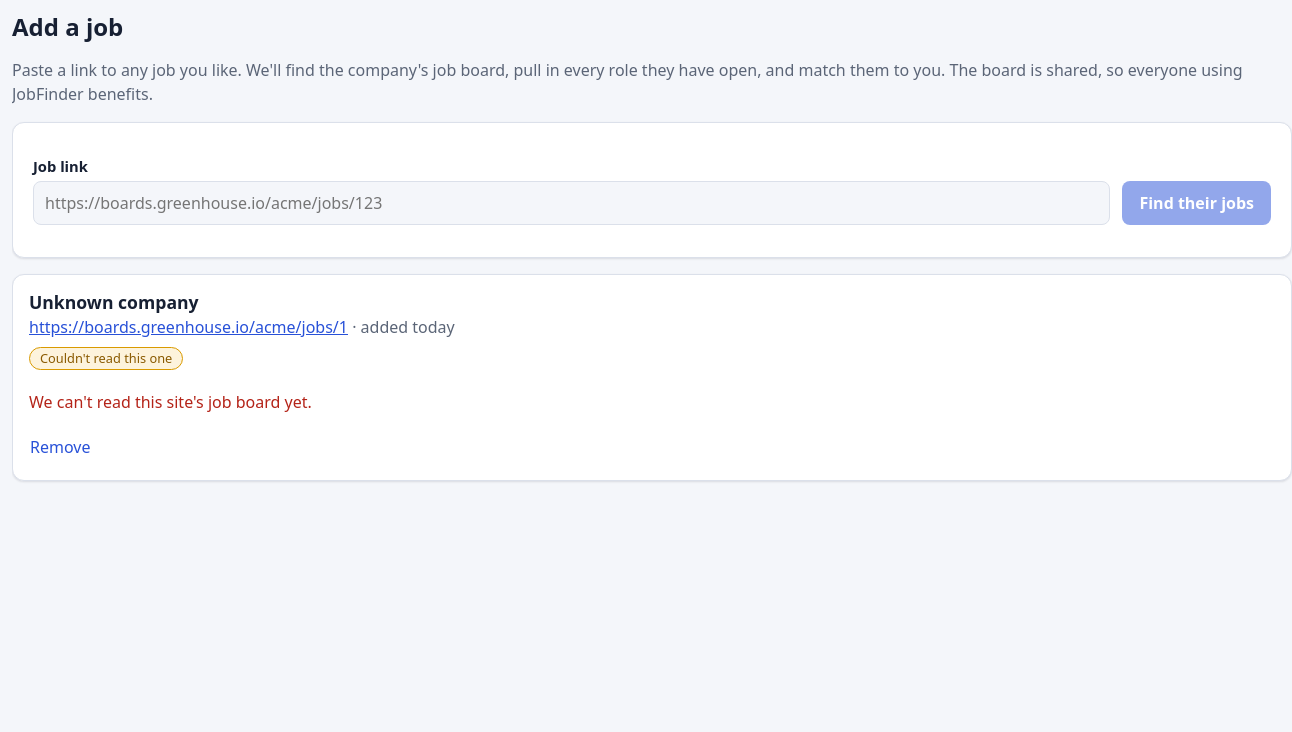
Test case: add a job › explains links it can't read and shows API errors
Check: the text "We can't read this site's job board yet." is shown, box x1=29 y1=391 x2=312 y2=413
Check: the text "Couldn't read this one" is shown, box x1=29 y1=347 x2=183 y2=370
Type "https://example.com/j" into the field with placeholder "https://boards.greenhouse.io/acme/jobs/123" at (572, 203), box x1=33 y1=181 x2=1110 y2=225
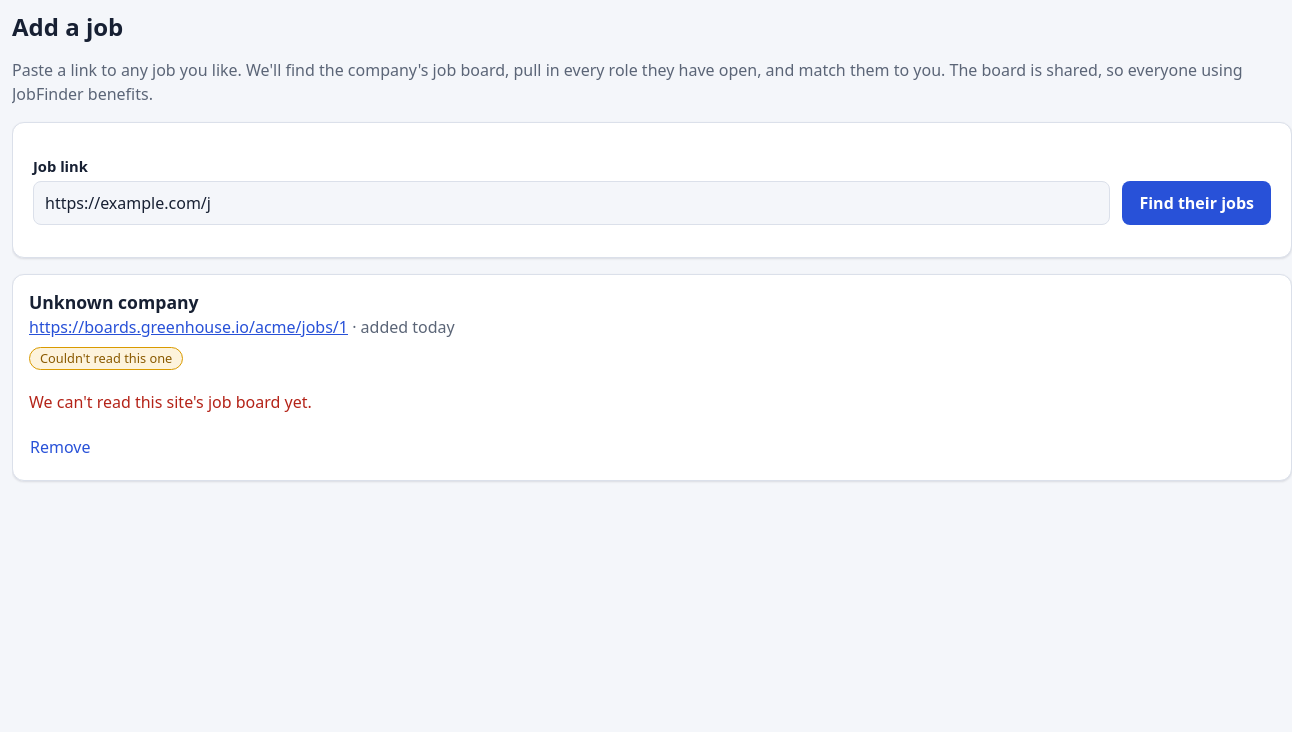
Click the button "Find their jobs" at (1197, 203), box x1=1122 y1=181 x2=1271 y2=225
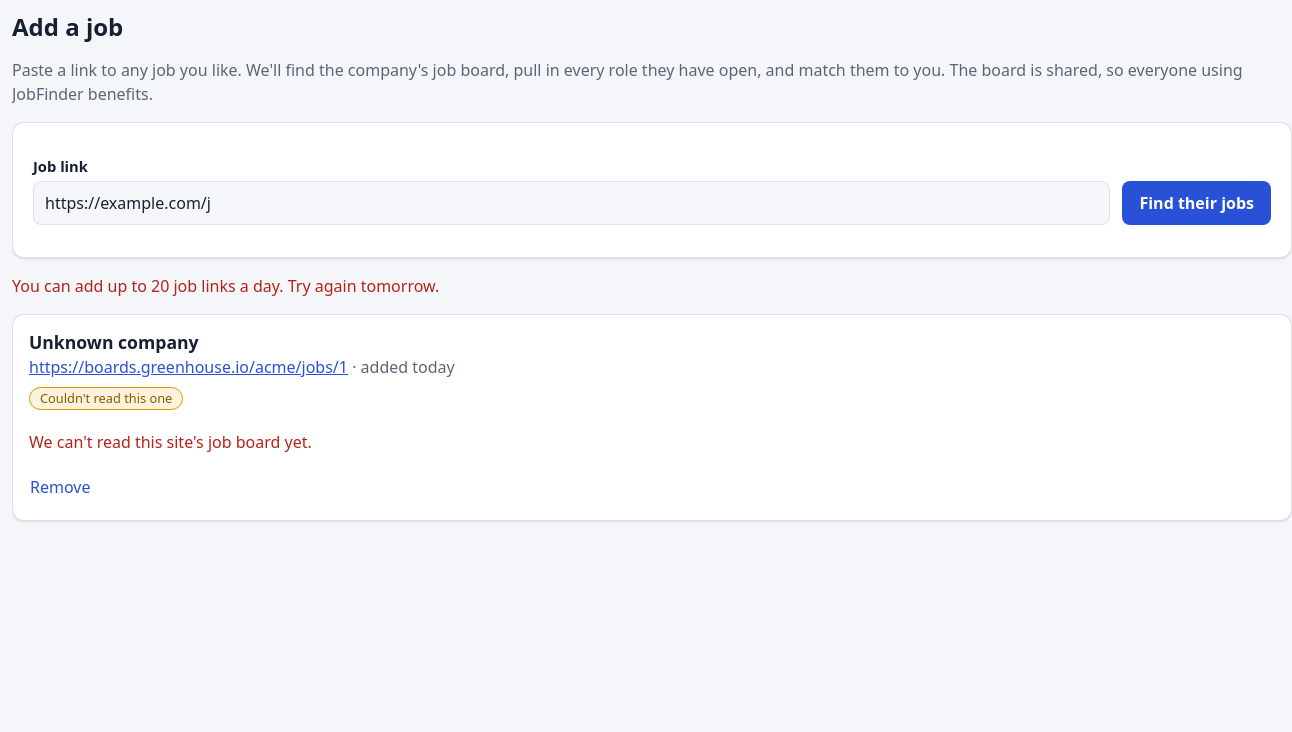
Check: the text "You can add up to 20 job links a day. Try again tomorrow." is shown, box x1=12 y1=275 x2=439 y2=297
